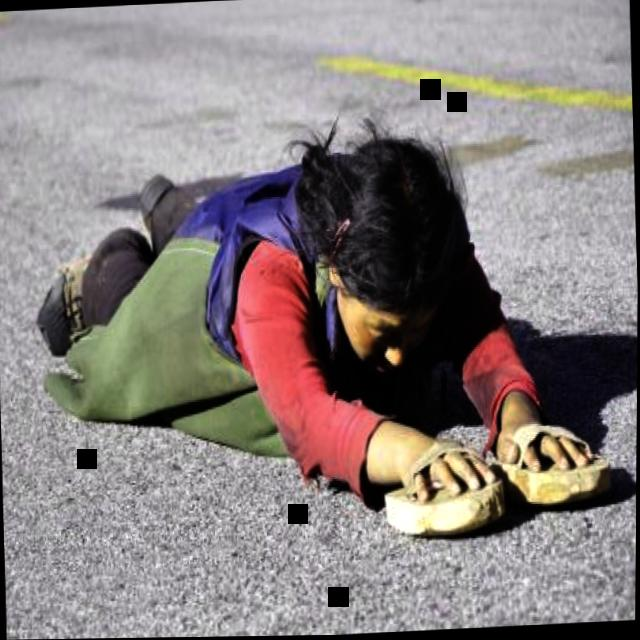Fall-Detected: (26, 81, 636, 586)
